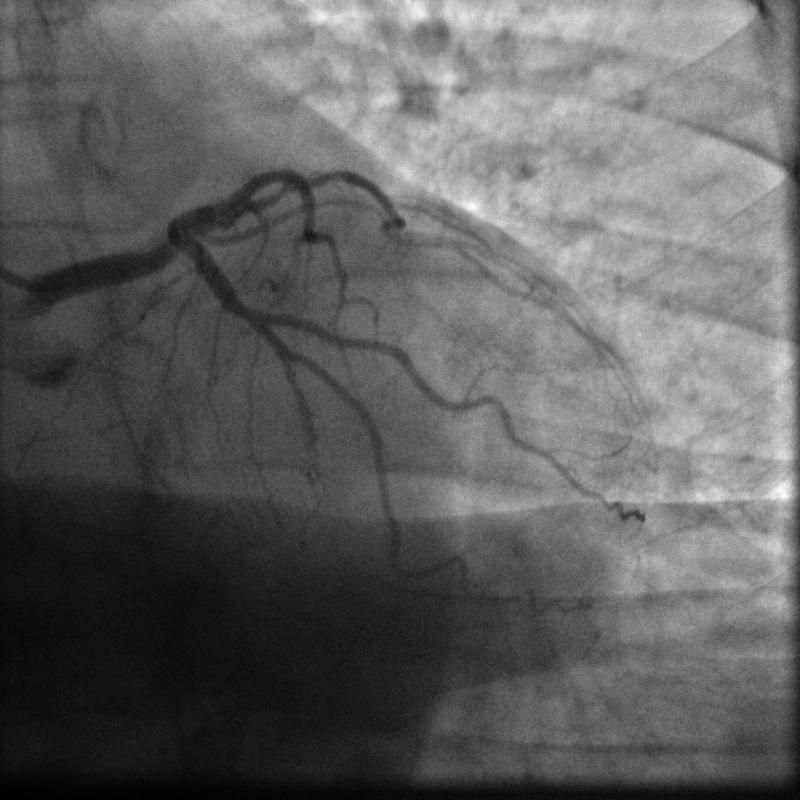Stenosis: (235, 287, 261, 334)
